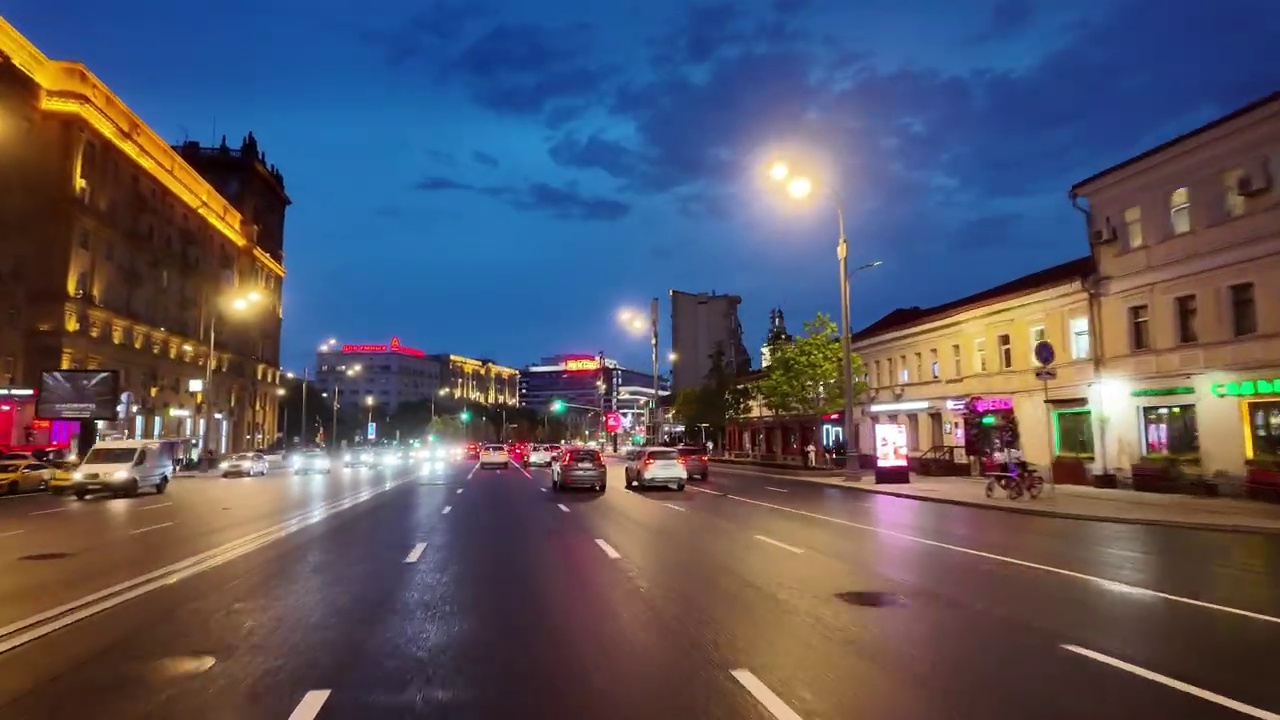acesa: (764, 158, 817, 206), (222, 283, 269, 326), (620, 308, 650, 335)
